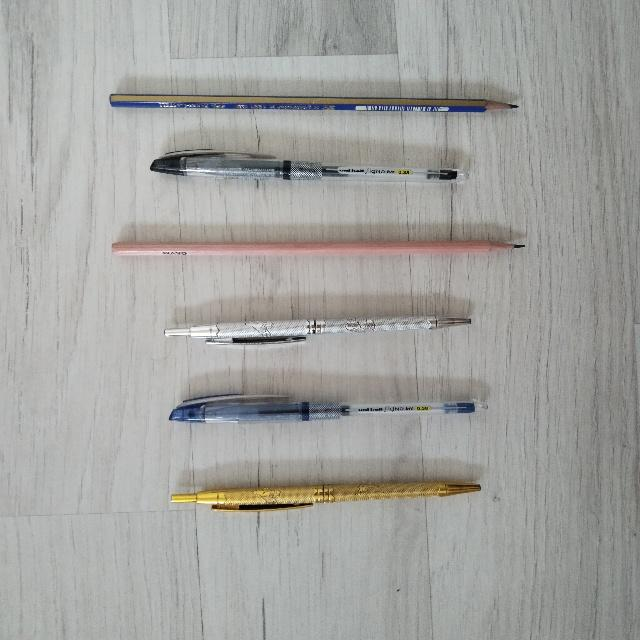pen: (150, 150, 466, 182), (169, 394, 486, 422)
pencil: (110, 94, 516, 112), (112, 240, 523, 255)
signature pen: (171, 481, 480, 510), (164, 316, 470, 344)
